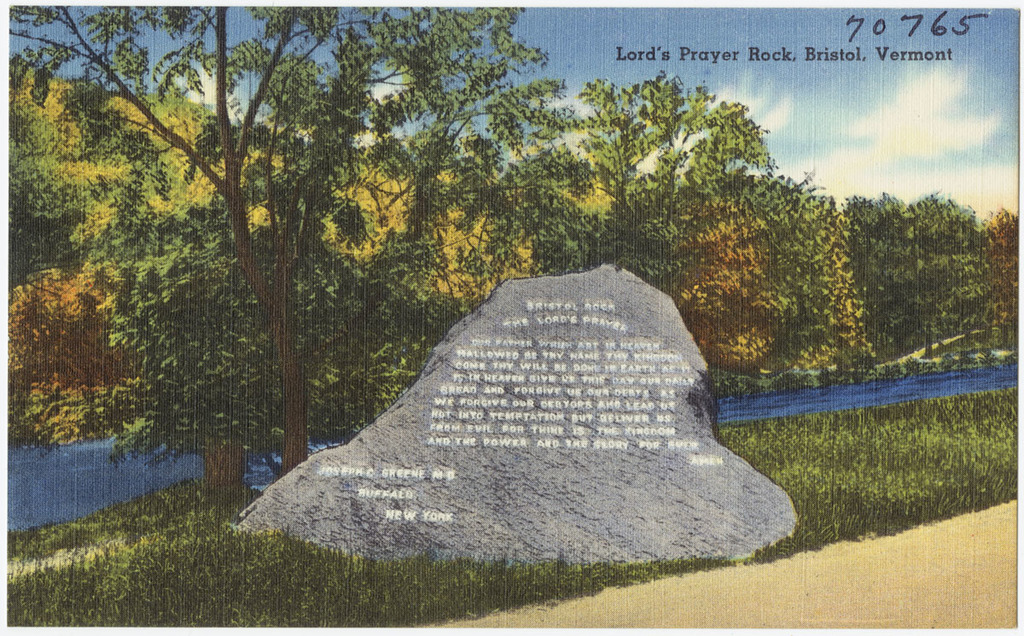Tree: (0, 0, 845, 482), (849, 182, 1018, 379)
